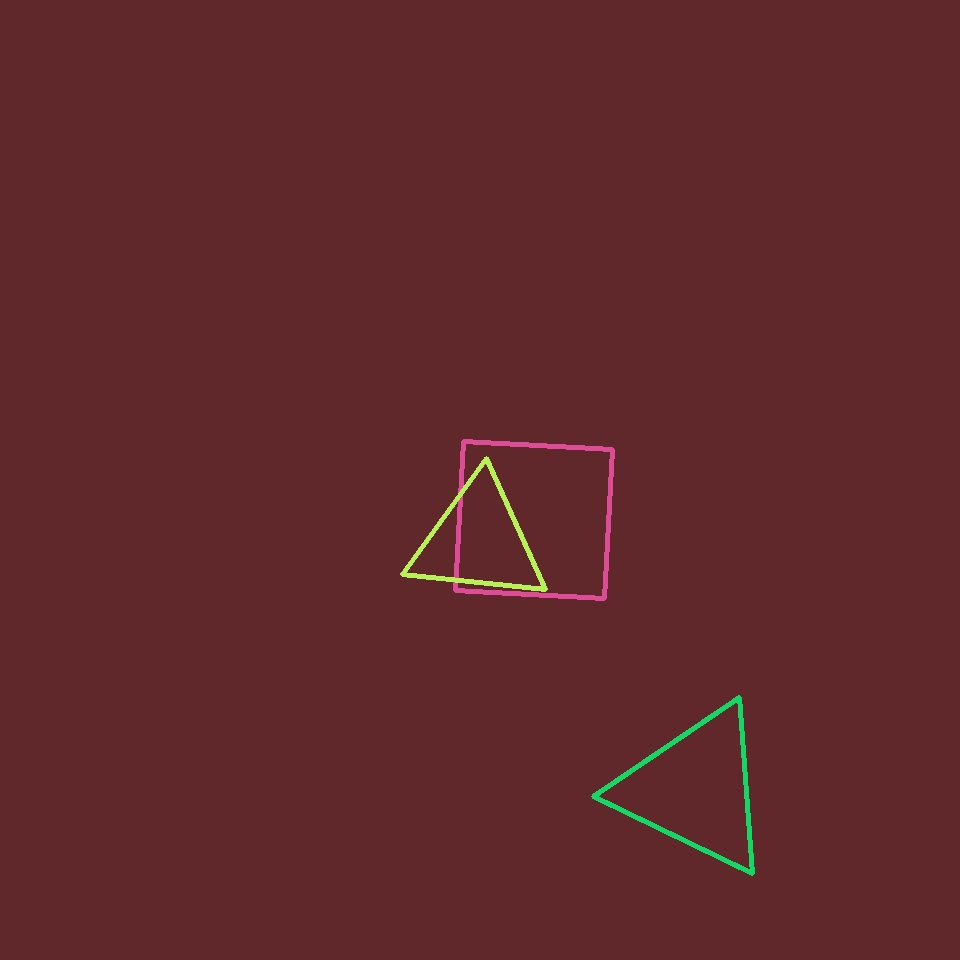circle: (616, 701, 774, 877), (406, 476, 550, 606)
square: (456, 441, 612, 598)
